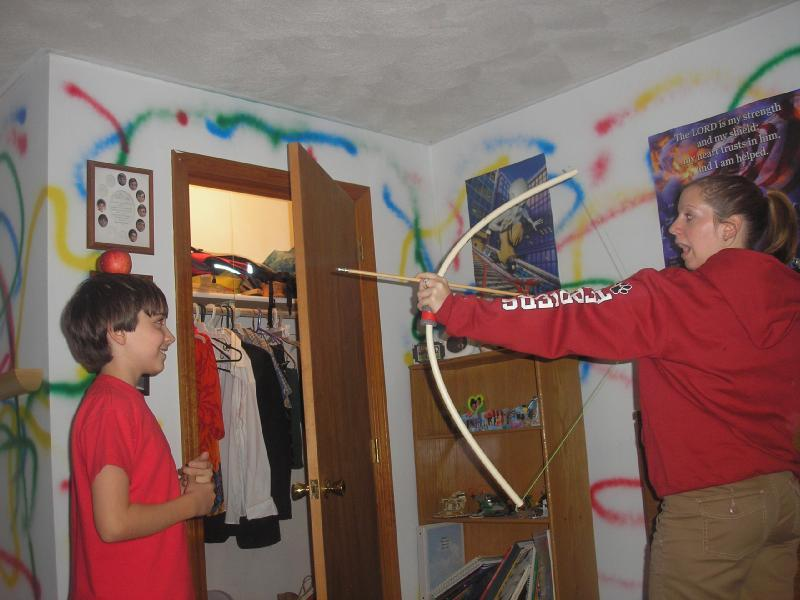person: (412, 175, 800, 600)
